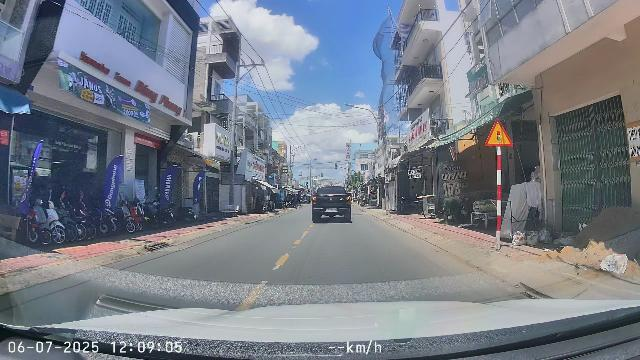209-giao-nhau-co-tin-hieu-den: (484, 118, 514, 148)
